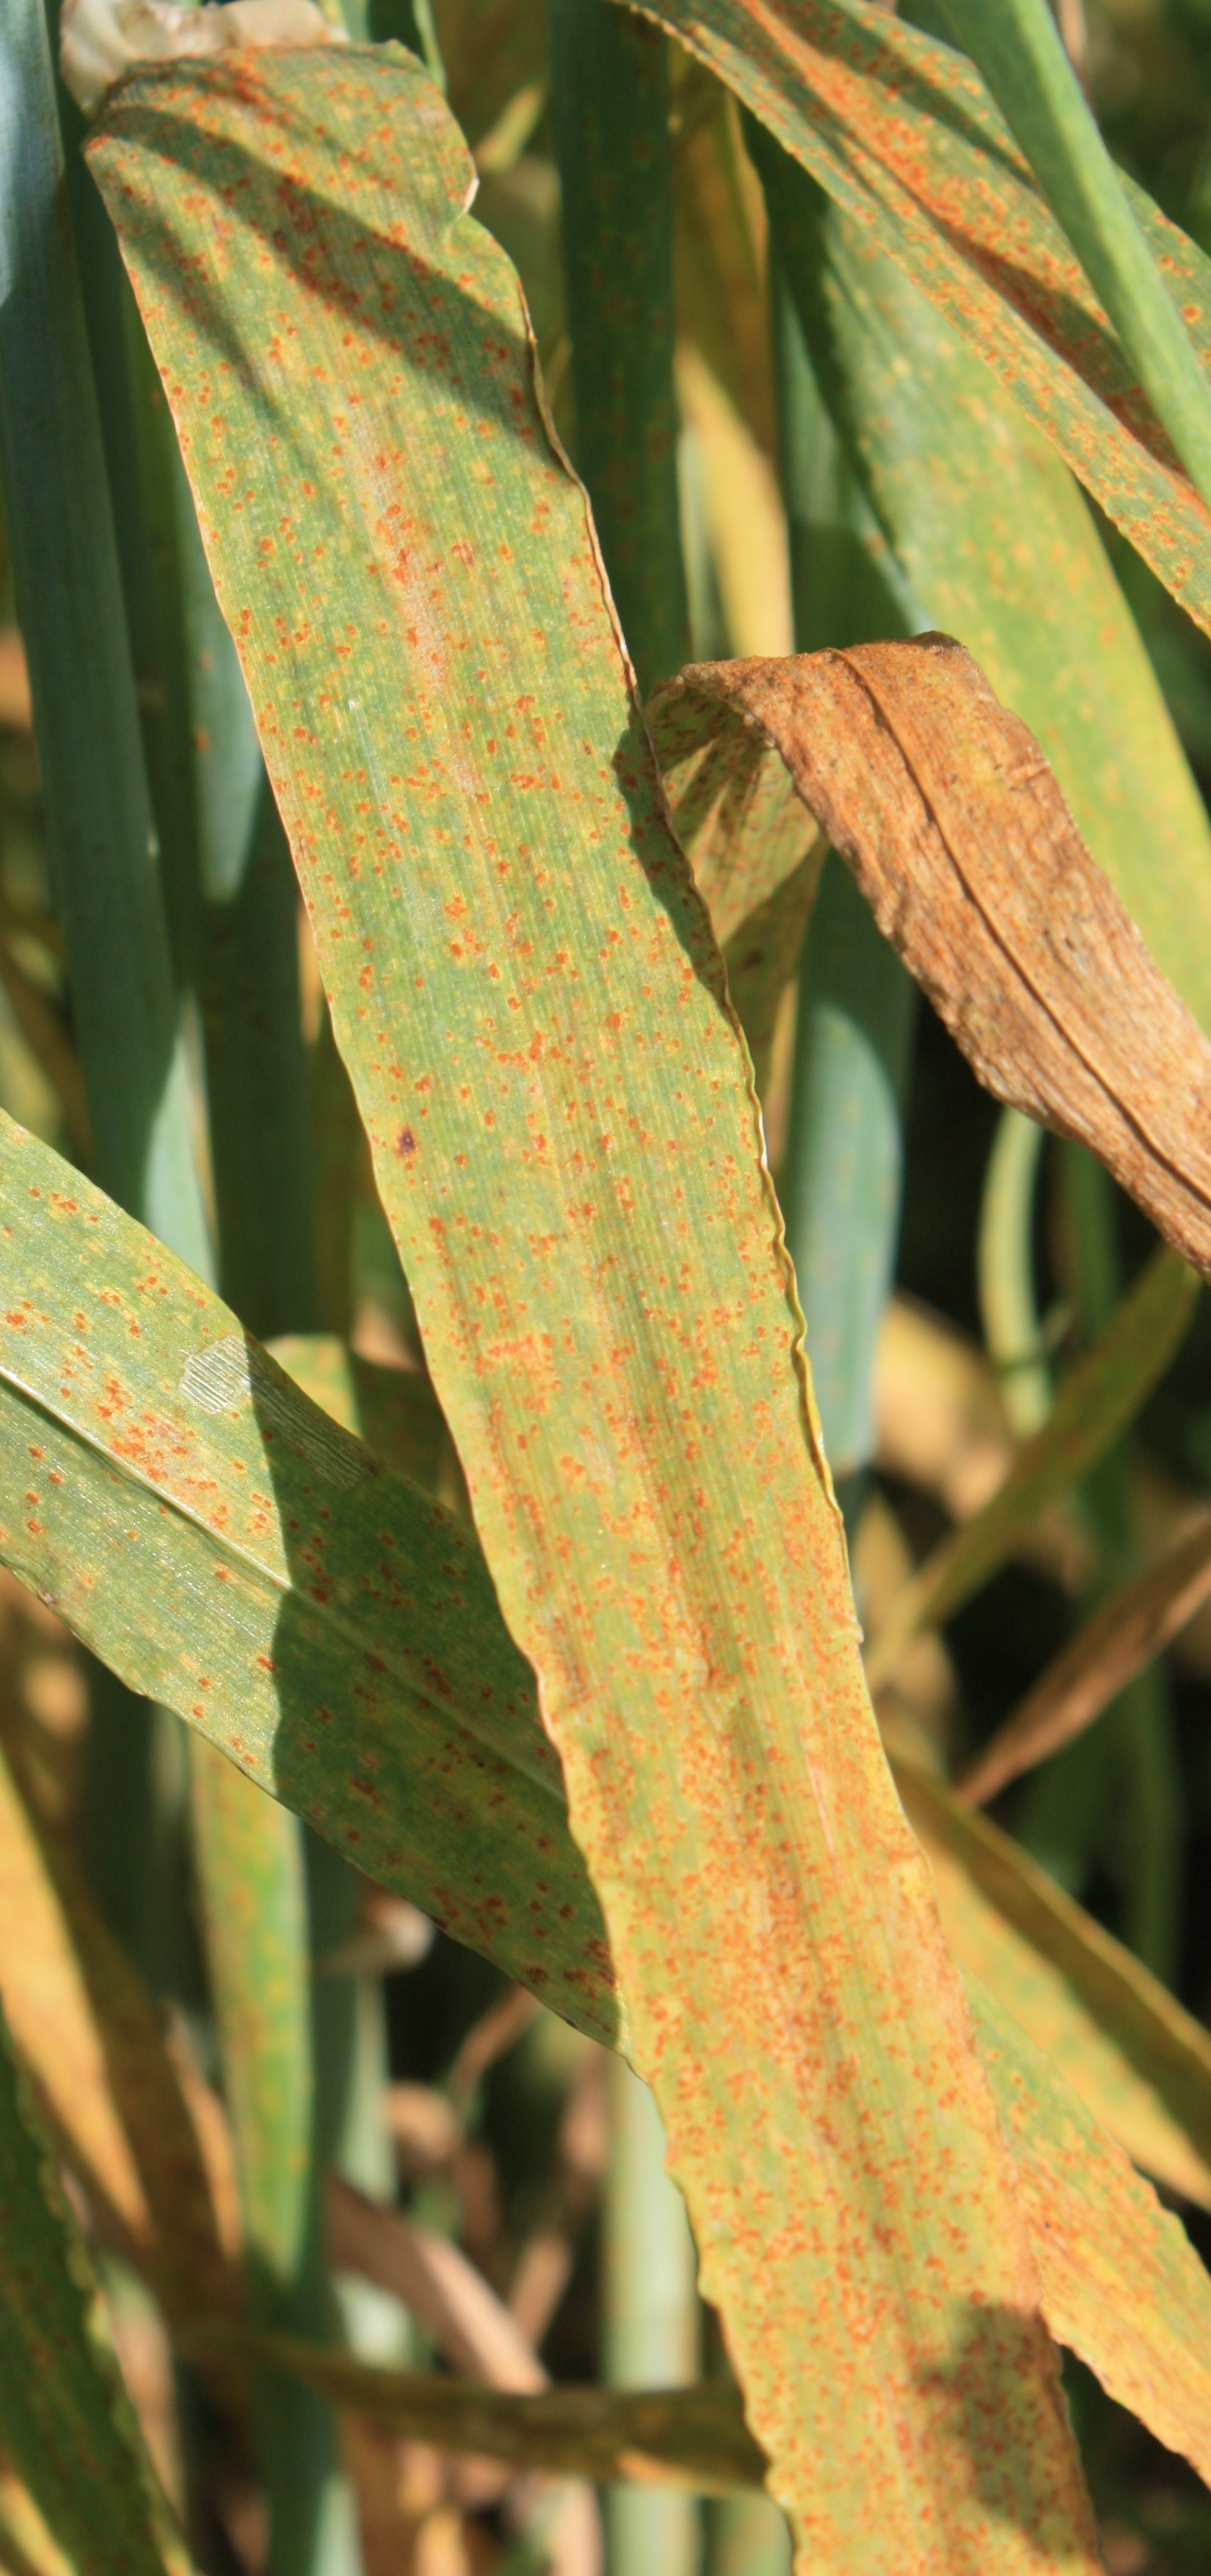Leaf Rust: (233, 452, 915, 2192)
